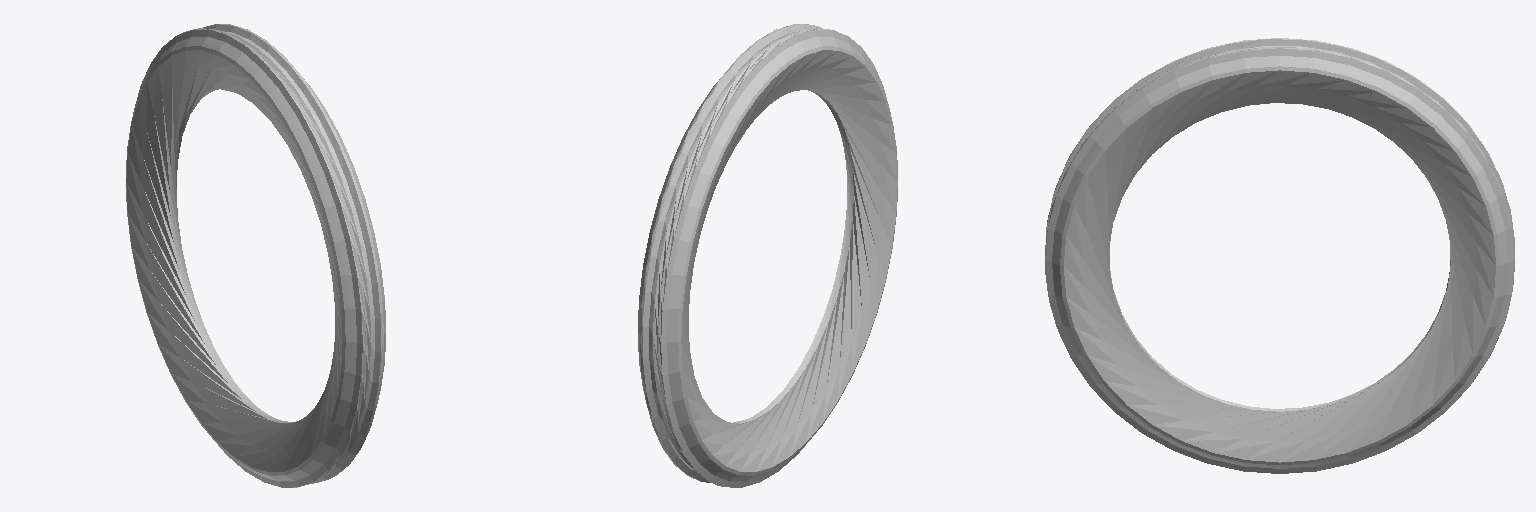
Rendered from vehicle_matless.obj.
3 views of the same model, side by side, from view 1: azimuth 30°, elevation 25°; view 2: azimuth 150°, elevation 25°; view 3: azimuth 270°, elevation 25° (orthographic).
Visible parts, largest first — view 1: pCylinder1; view 2: pCylinder1; view 3: pCylinder1.
Boxes of the visible parts, x1,y1,x2,y2 form: pCylinder1: [126, 24, 385, 487]; pCylinder1: [638, 24, 897, 487]; pCylinder1: [1045, 38, 1514, 473].
Bounding box in the file's own units: 0.9428 × 8.92 × 8.92.